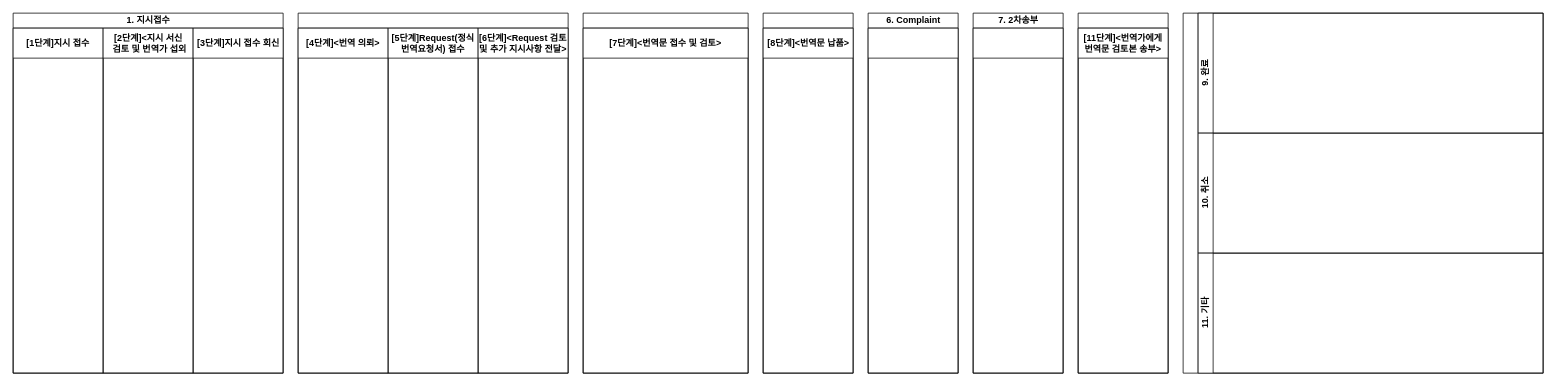
Some shapes in this 1556 by 386 pixel diagram are drawn without their labels. Each missing label, with the box of its shape:
2. 번역의뢰: (297, 12, 568, 373)
3. 번역접수 ~ 4. 검토단계: (582, 12, 748, 373)
5. 1차송부: (762, 12, 853, 373)
8. t피드백: (1077, 12, 1168, 373)
[10]<체커의견 검토 및 반영 후 최종본 송부>: (972, 27, 1063, 373)
[9단계]체커 의견 접수: (867, 27, 958, 373)
최종 단계: (1182, 12, 1543, 373)
